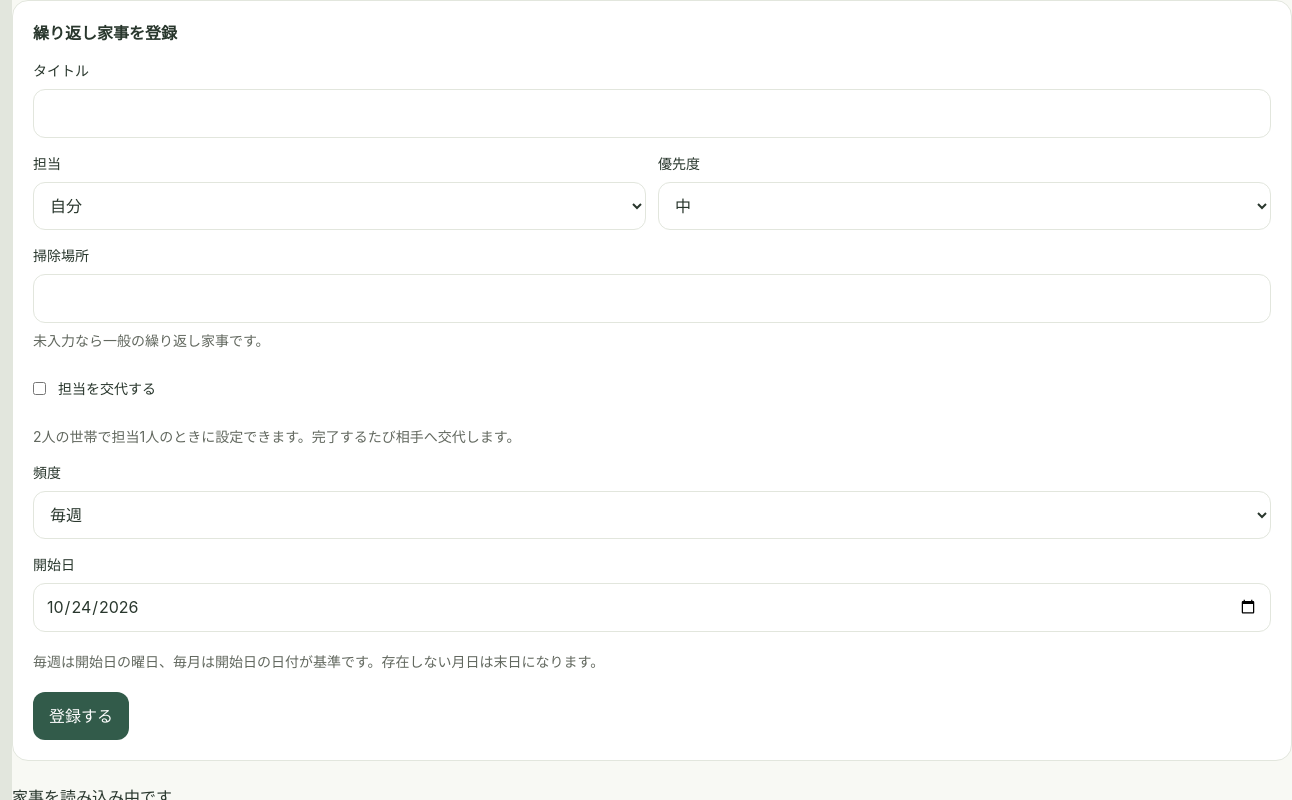
Test: 担当を2人にすると交代をオフにし、失敗しても場所入力を保持する
Type "床" into the field labelled "タイトル".
click(652, 113); type("床")  # box x1=33 y1=89 x2=1271 y2=138
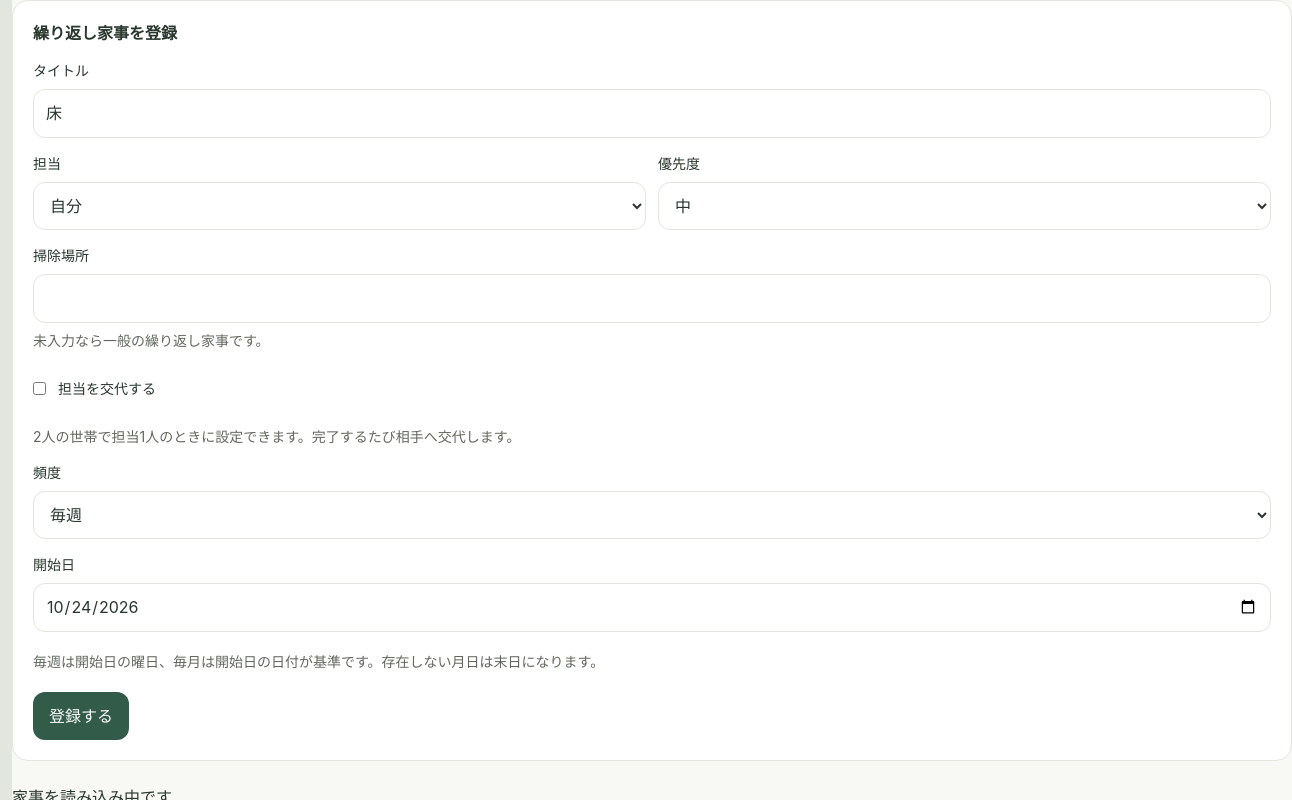
Type "台所" into the field labelled "掃除場所".
click(652, 298); type("台所")  # box x1=33 y1=274 x2=1271 y2=323
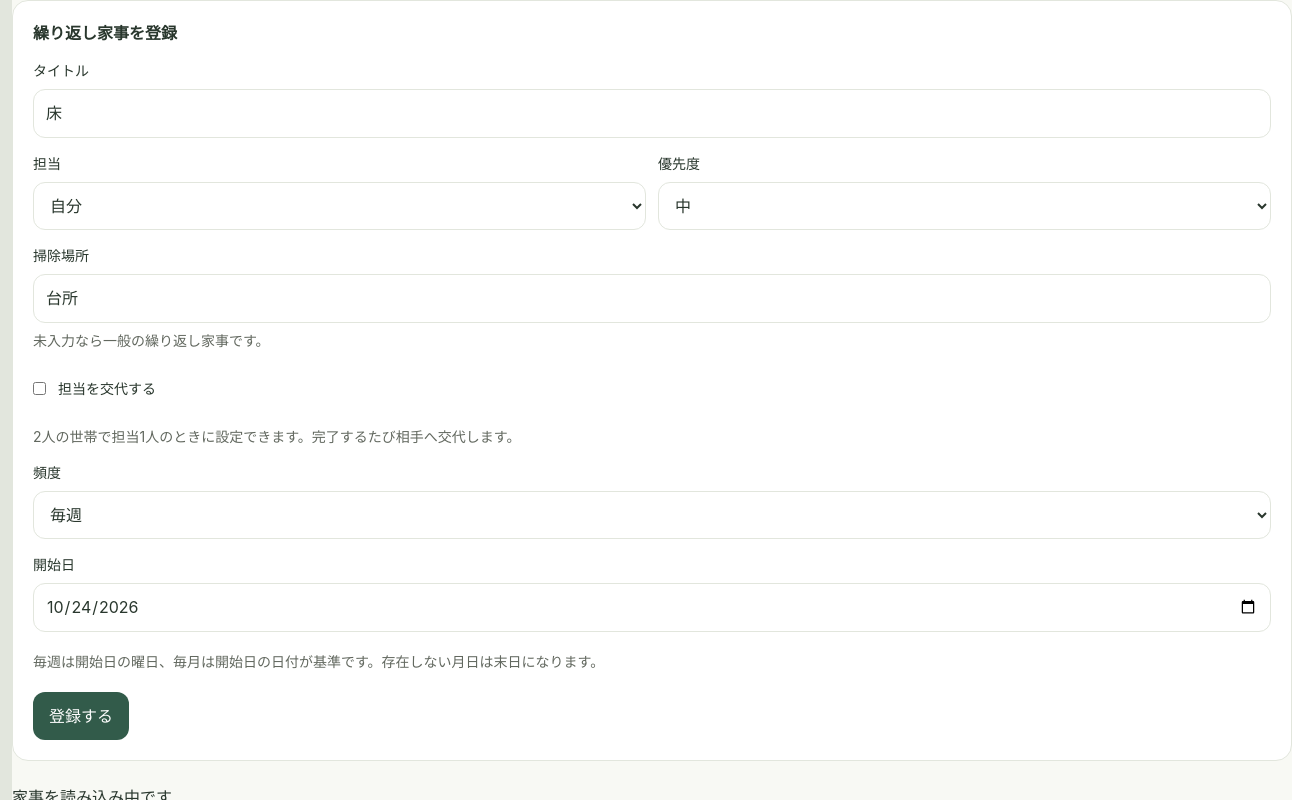
Click the checkbox labelled "担当を交代する".
click(40, 389)  # box x1=33 y1=382 x2=46 y2=395
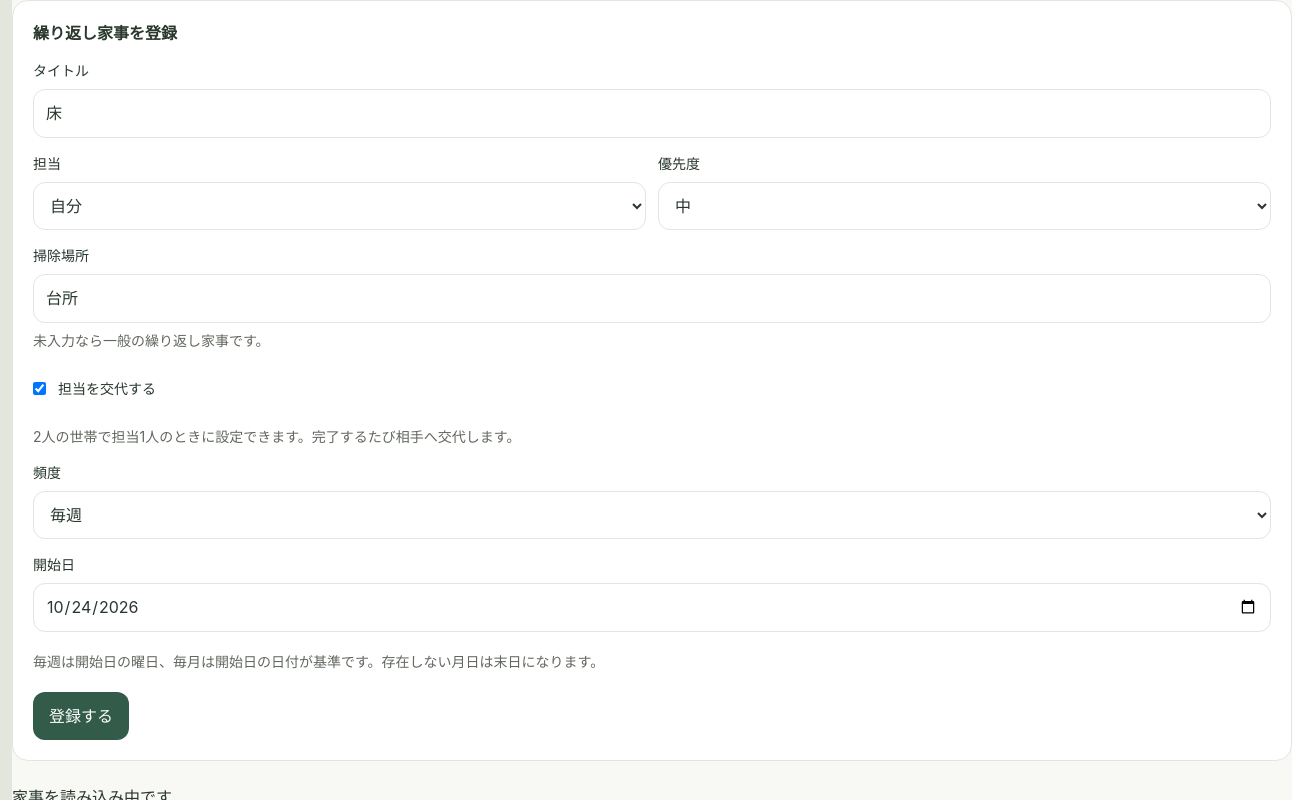
Select "2人" in the dropdown labelled "担当" at (340, 206), box x1=33 y1=182 x2=646 y2=230
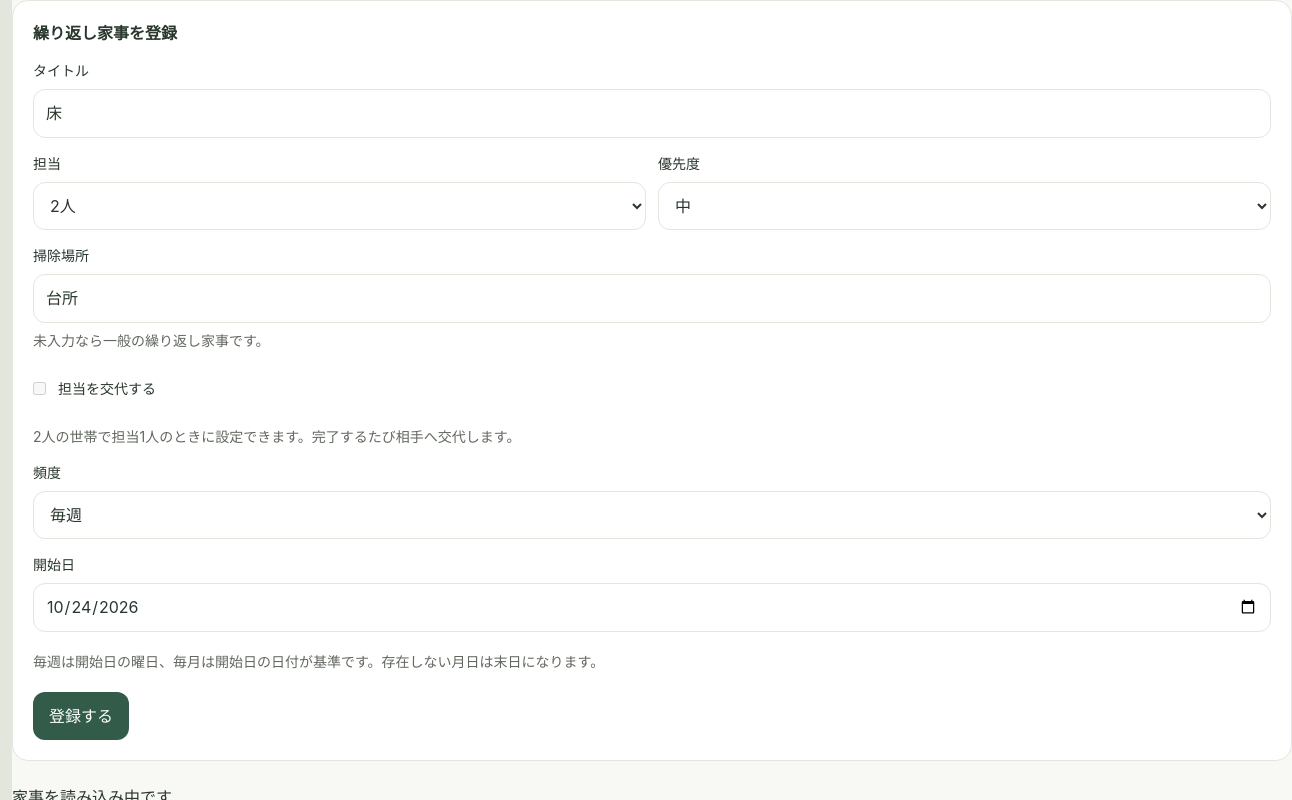
expect the checkbox labelled "担当を交代する" is not checked: met, box x1=33 y1=382 x2=46 y2=395
expect the checkbox labelled "担当を交代する" is disabled: met, box x1=33 y1=382 x2=46 y2=395
Click the button "登録する".
click(81, 716)  # box x1=33 y1=692 x2=129 y2=740
(page scrolled)
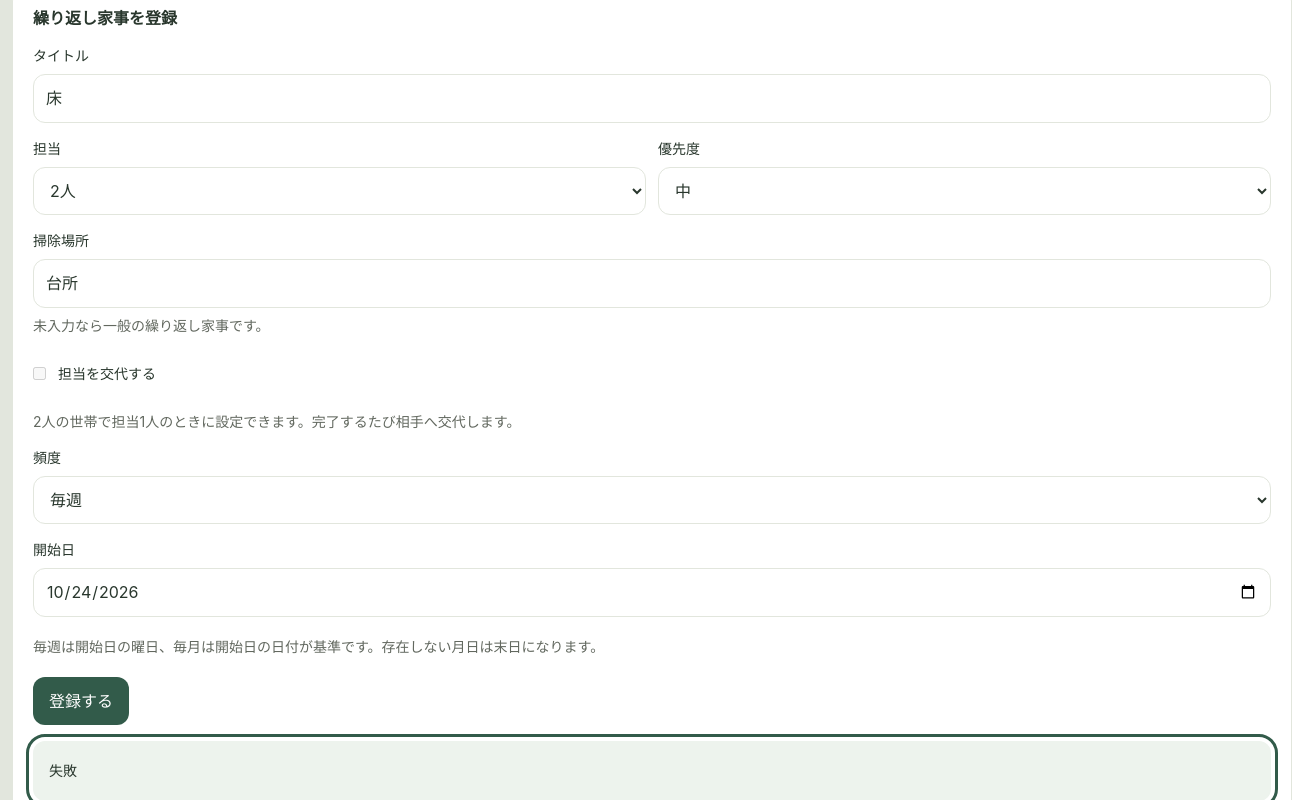
expect the text "失敗" is shown: met, box x1=33 y1=740 x2=1271 y2=799
